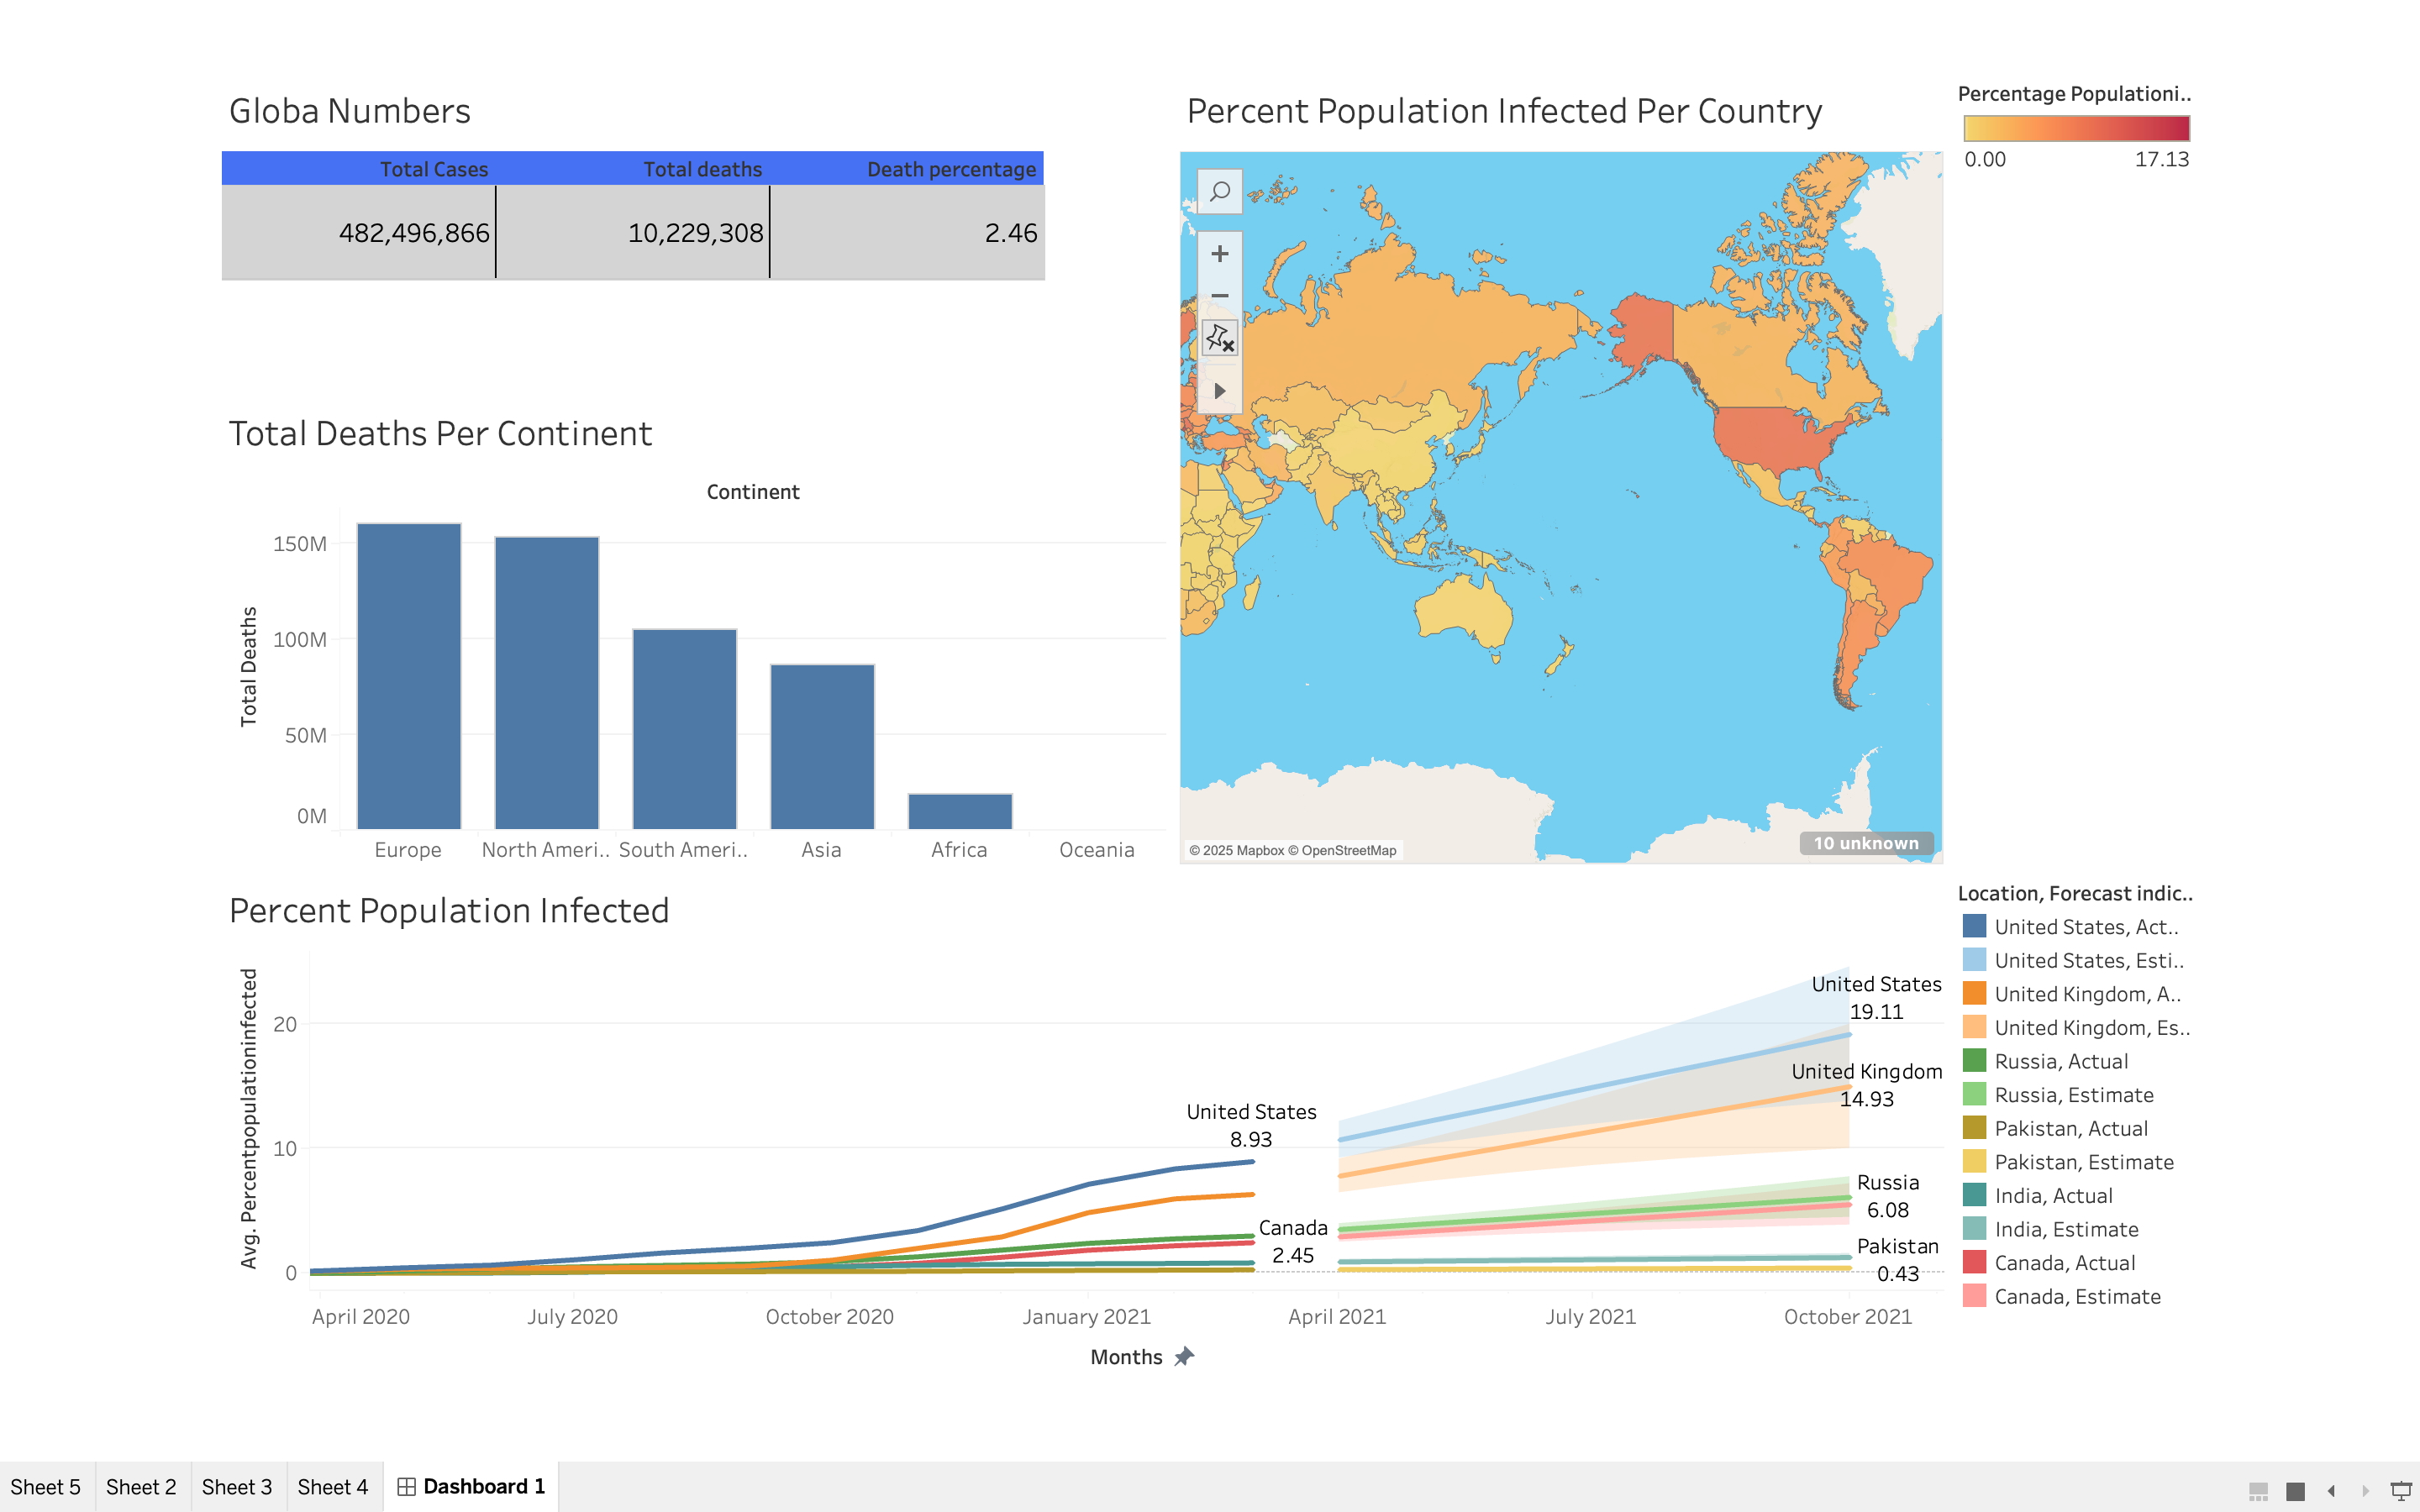

The dashboard page shown, as its layout file describes it:
{"tool":"tableau","page":{"name":"Dashboard 1","canvas":[1200,800],"ordinal":0},"visuals":[{"type":"worksheet","title":"Sheet 5","mark":"Automatic","box":[8,8,570.3,192]},{"type":"worksheet","title":"Sheet 3","mark":"Automatic","box":[578.3,8,462.7,476]},{"type":"legend","title":"Sheet 3","param":"[federated.11q9dy40tqr7il19tlz4i1kjavs4].[sum:PercentagePopulationinfected:qk]","box":[1041,8,151,444]},{"type":"worksheet","title":"Sheet 2","mark":"Automatic","rows":["total_deaths"],"cols":["continent"],"box":[8,200,570.3,284]},{"type":"worksheet","title":"Sheet 4","mark":"Automatic","rows":["percentpopulationinfected"],"cols":["date"],"box":[8,484,1033,308]},{"type":"legend","title":"Sheet 4","param":"[federated.01eftxg08a6tmw174fvf30iewjsb].[none:location:nk]\n[federated.01eftxg08","box":[1041,484,151,266]}]}

Visuals, with their boxes on the page's 1200x800 design canvas (x1, y1, x2, y2). These are canvas units, not pixel positions in the 2420x1512 screenshot, which may show the page scaled, cropped or inside an application window:
"Sheet 5" worksheet: [left=8, top=8, right=578, bottom=200]
"Sheet 3" worksheet: [left=578, top=8, right=1041, bottom=484]
"Sheet 3" legend: [left=1041, top=8, right=1192, bottom=452]
"Sheet 2" worksheet: [left=8, top=200, right=578, bottom=484]
"Sheet 4" worksheet: [left=8, top=484, right=1041, bottom=792]
"Sheet 4" legend: [left=1041, top=484, right=1192, bottom=750]
